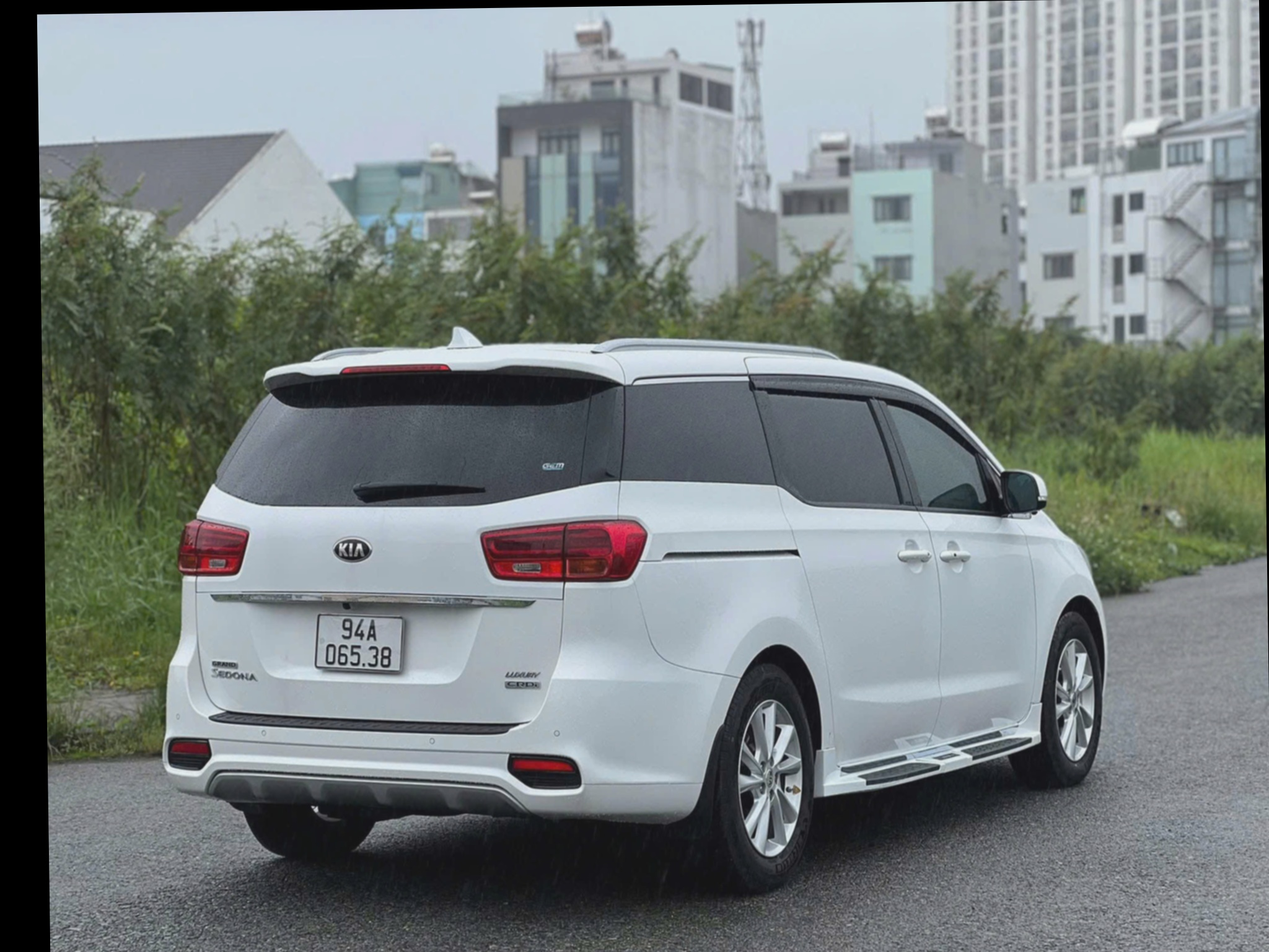Bien-so: (306, 603, 411, 683)
